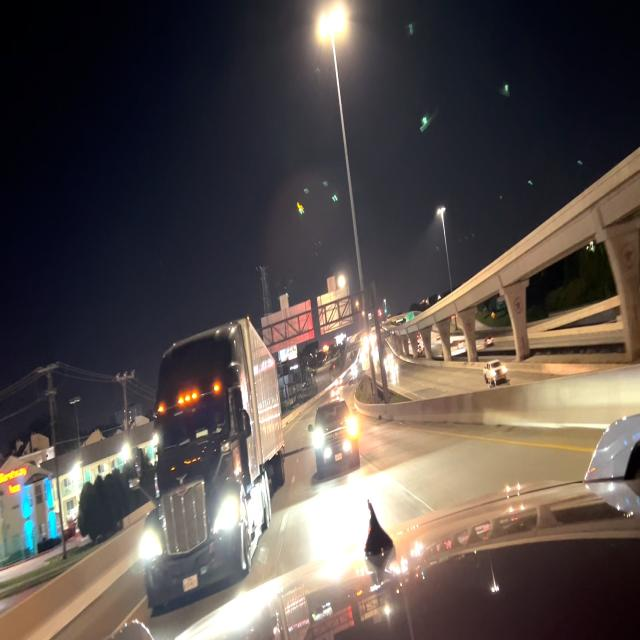back-of-sign: (259, 293, 316, 352), (318, 277, 355, 340)
